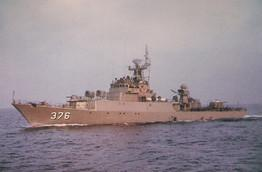warship: (9, 42, 249, 130)
